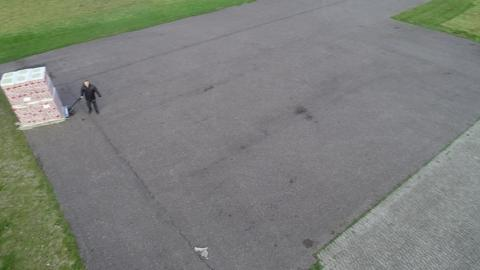RockwoolPallet: (2, 66, 68, 127)
